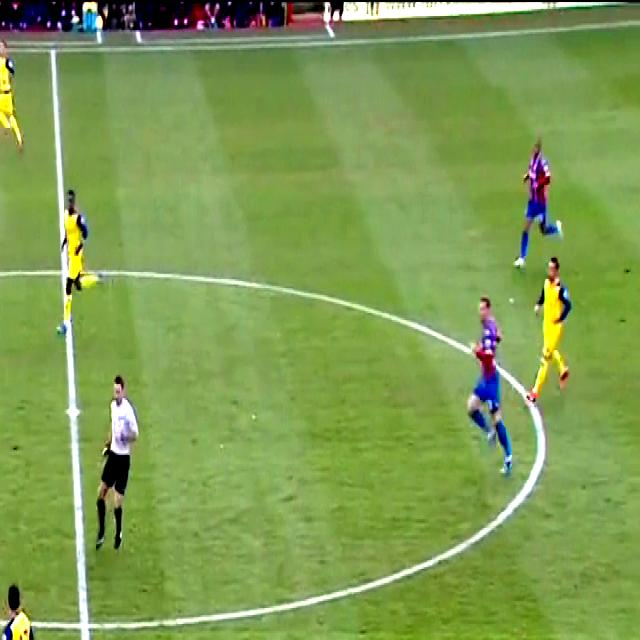referee: (86, 378, 146, 561)
soccer-player: (455, 298, 529, 486), (504, 130, 568, 270), (523, 252, 579, 405), (55, 187, 102, 310), (0, 41, 37, 151), (0, 585, 49, 640)
